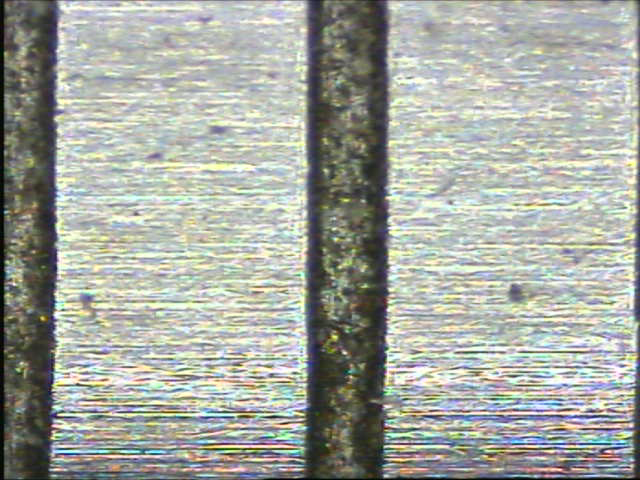line: (301, 1, 393, 477)
